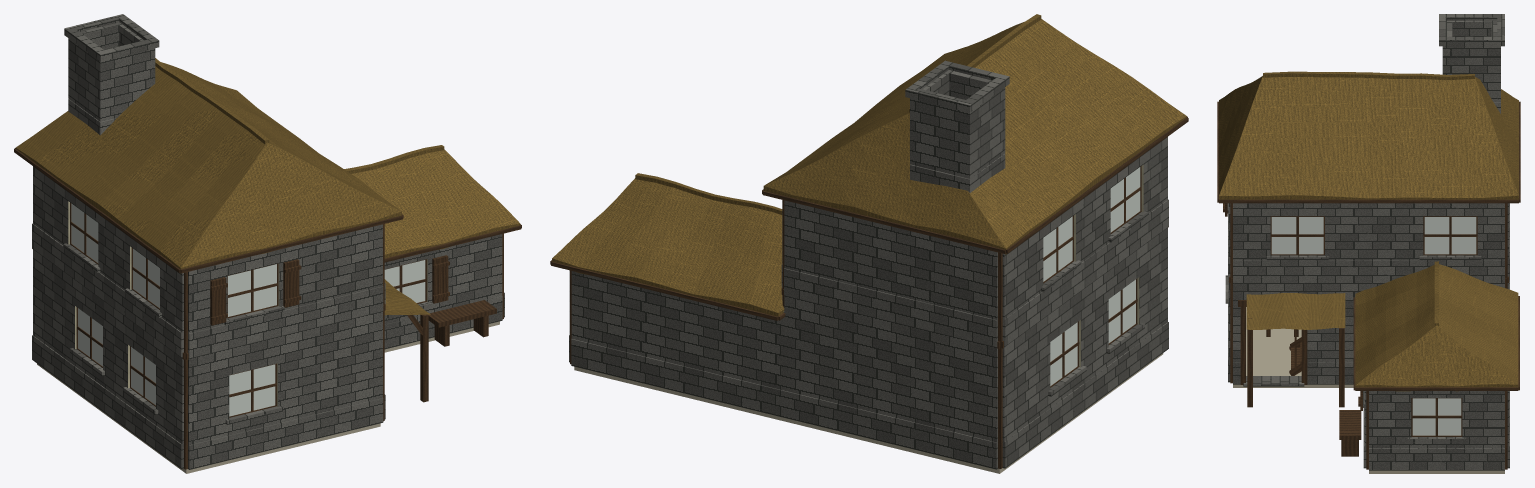
The model's file is kitchen-character.glb.
The picture shows the model from 3 angles, left to right: view 1: azimuth 30°, elevation 25°; view 2: azimuth 150°, elevation 25°; view 3: azimuth 270°, elevation 25°; orthographic projection. The views are drawn at different scales.
Parts seen in each view (by area): view 1: Kitchen_Roof_0, Kitchen_Shell_0, Kitchen_GroundFront_0, Kitchen_UpperShell_0, Kitchen_UpperShell_1, Kitchen_Chimney_0, Kitchen_Shell_1, Kitchen_GroundFront_1, Kitchen_UpperShell_3, Kitchen_Glazing_0, Kitchen_Shell_2, Kitchen_Roof_1 (+6 smaller); view 2: Kitchen_Roof_0, Kitchen_Shell_1, Kitchen_Shell_0, Kitchen_UpperShell_0, Kitchen_UpperShell_1, Kitchen_Chimney_0, Kitchen_Roof_1, Kitchen_UpperShell_3, Kitchen_Glazing_0, Kitchen_Floor_0, Kitchen_Shell_2, Kitchen_UpperShell_2; view 3: Kitchen_Roof_0, Kitchen_UpperShell_0, Kitchen_UpperShell_1, Kitchen_Shell_0, Kitchen_Chimney_0, Kitchen_GroundFront_0, Kitchen_Shell_1, Kitchen_UpperShell_3, Kitchen_Roof_1, Kitchen_Floor_0, Kitchen_Shell_2, Kitchen_Glazing_0 (+5 smaller).
Part boxes in pixels (x1=…): Kitchen_Roof_0: x1=15, y1=58, x2=520, y2=315; Kitchen_Shell_0: x1=33, y1=234, x2=502, y2=468; Kitchen_GroundFront_0: x1=188, y1=311, x2=382, y2=469; Kitchen_UpperShell_0: x1=33, y1=166, x2=382, y2=356; Kitchen_UpperShell_1: x1=32, y1=223, x2=385, y2=358; Kitchen_Chimney_0: x1=64, y1=14, x2=159, y2=135; Kitchen_Shell_1: x1=32, y1=292, x2=504, y2=468; Kitchen_GroundFront_1: x1=188, y1=394, x2=385, y2=469; Kitchen_UpperShell_3: x1=71, y1=203, x2=276, y2=316; Kitchen_Glazing_0: x1=78, y1=260, x2=425, y2=404; Kitchen_Shell_2: x1=76, y1=233, x2=503, y2=469; Kitchen_Roof_1: x1=14, y1=148, x2=521, y2=273; Kitchen_Roof_0: x1=552, y1=14, x2=1186, y2=316; Kitchen_Shell_1: x1=569, y1=295, x2=1168, y2=469; Kitchen_Shell_0: x1=569, y1=227, x2=1167, y2=468; Kitchen_UpperShell_0: x1=782, y1=137, x2=1167, y2=346; Kitchen_UpperShell_1: x1=781, y1=199, x2=1168, y2=346; Kitchen_Chimney_0: x1=905, y1=60, x2=1009, y2=192; Kitchen_Roof_1: x1=550, y1=116, x2=1188, y2=320; Kitchen_UpperShell_3: x1=1043, y1=167, x2=1140, y2=281; Kitchen_Glazing_0: x1=1050, y1=279, x2=1135, y2=385; Kitchen_Floor_0: x1=574, y1=353, x2=1163, y2=473; Kitchen_Shell_2: x1=570, y1=270, x2=1137, y2=468; Kitchen_UpperShell_2: x1=781, y1=166, x2=1168, y2=348; Kitchen_Roof_0: x1=1219, y1=71, x2=1518, y2=391; Kitchen_UpperShell_0: x1=1228, y1=203, x2=1509, y2=269; Kitchen_UpperShell_1: x1=1227, y1=203, x2=1509, y2=282; Kitchen_Shell_0: x1=1364, y1=283, x2=1509, y2=468; Kitchen_Chimney_0: x1=1439, y1=14, x2=1504, y2=113; Kitchen_GroundFront_0: x1=1228, y1=270, x2=1368, y2=382; Kitchen_Shell_1: x1=1363, y1=270, x2=1509, y2=470; Kitchen_UpperShell_3: x1=1271, y1=217, x2=1476, y2=254; Kitchen_Roof_1: x1=1217, y1=101, x2=1520, y2=390; Kitchen_Floor_0: x1=1233, y1=307, x2=1504, y2=473; Kitchen_Shell_2: x1=1230, y1=271, x2=1507, y2=469; Kitchen_Glazing_0: x1=1412, y1=398, x2=1461, y2=435.
Bounding box in the file's own units: 12.92 × 9.74 × 8.94.
Materials: 12 (4 with a texture image).
